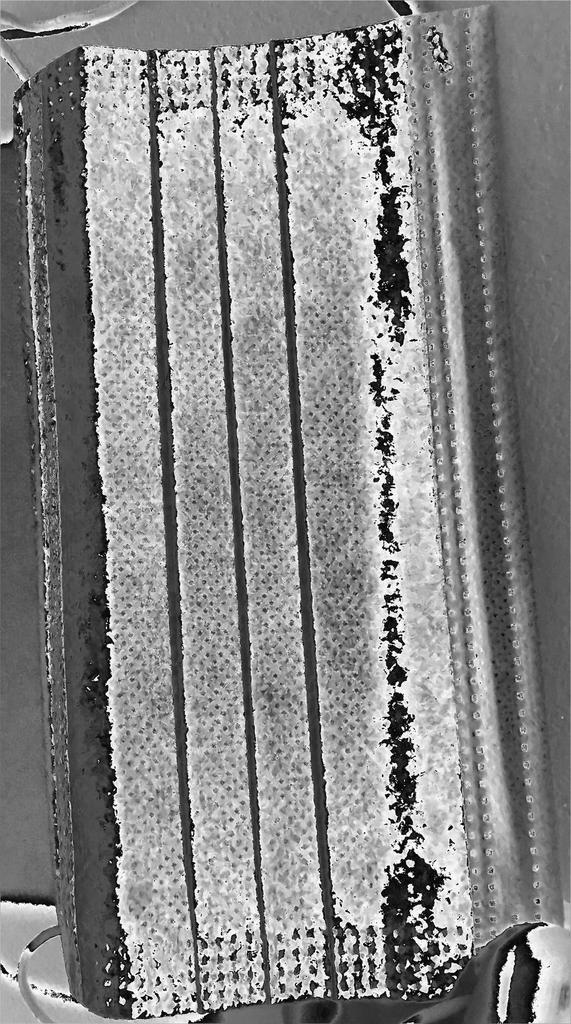High GSM: (74, 7, 493, 1021)
